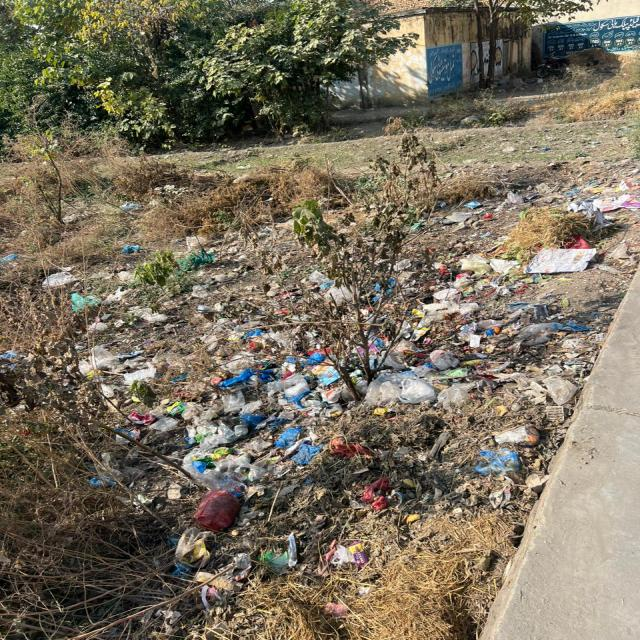garbage: (55, 249, 548, 552)
